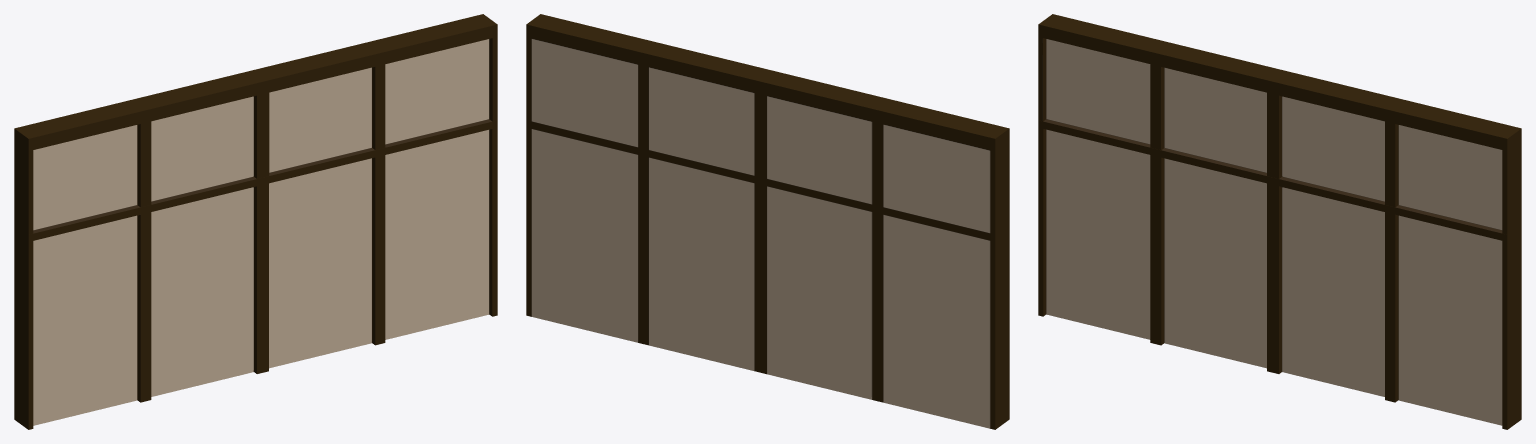
File: roomWall.obj
The picture shows the model from 3 angles, left to right: view 1: azimuth 30°, elevation 25°; view 2: azimuth 150°, elevation 25°; view 3: azimuth 330°, elevation 25°; orthographic projection.
Visible parts, largest first — view 1: 立方体; view 2: 立方体; view 3: 立方体.
Part boxes in pixels (x1,y1,x2,y2): 立方体: (14,14,497,429); 立方体: (526,14,1009,429); 立方体: (1038,14,1521,429).
Bounding box in the file's own units: 16.1 × 9.55 × 0.8568.
1 material, 1 textured.
